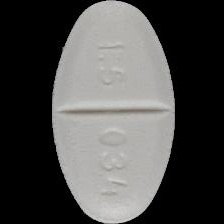0093-8034: (0, 0, 224, 224)
